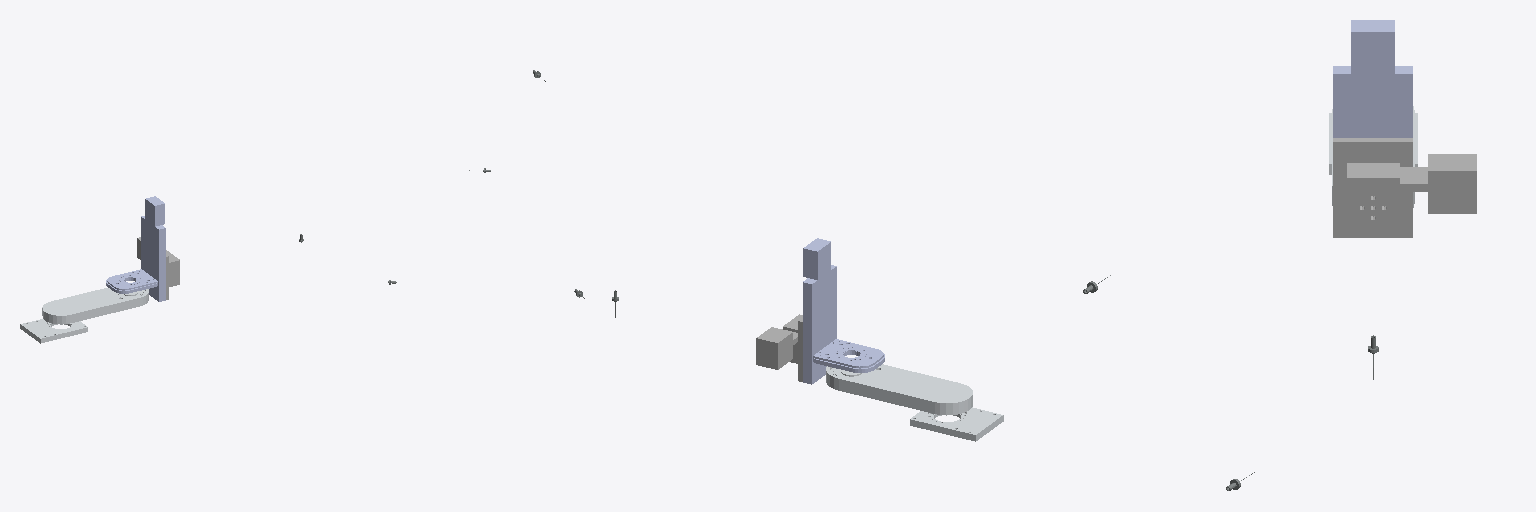
The robot description file, URDF, robot "eye_op_robotics":
<?xml version="1.0" encoding="utf-8"?>
<!-- This URDF was automatically created by SolidWorks to URDF Exporter! Originally created by [author] ([email redacted]) 
     Commit Version: 1.5.1-0-g916b5db  Build Version: 1.5.7152.31018
     For more information, please see http://wiki.ros.org/sw_urdf_exporter -->
<robot
  name="eye_op_robotics">
  <link
    name="base_link">
    <inertial>
      <origin
        xyz="-0.0238005358984902 7.38684680795521E-06 0.19192082135837"
        rpy="0 0 0" />
      <mass
        value="0.384019501922379" />
      <inertia
        ixx="0.00037648049249323"
        ixy="-1.86655934883143E-07"
        ixz="7.23682486620702E-07"
        iyy="0.000691074966331848"
        iyz="-2.24605516922338E-10"
        izz="0.00105713750177639" />
    </inertial>
    <visual>
      <origin
        xyz="0 0 0"
        rpy="0 0 0" />
      <geometry>
        <mesh
          filename="package://eye_op_robotics/meshes/base_link.STL" />
      </geometry>
      <material
        name="">
        <color
          rgba="0.894117647058823 0.913725490196078 0.929411764705882 1" />
      </material>
    </visual>
    <collision>
      <origin
        xyz="0 0 0"
        rpy="0 0 0" />
      <geometry>
        <mesh
          filename="package://eye_op_robotics/meshes/base_link.STL" />
      </geometry>
    </collision>
  </link>
  <link
    name="link_1">
    <inertial>
      <origin
        xyz="0.100797473863 9.75750207964365E-05 -0.0119251219533321"
        rpy="0 0 0" />
      <mass
        value="1.46370175335147" />
      <inertia
        ixx="0.00106648086469304"
        ixy="-8.16970648484332E-06"
        ixz="0.00014263499229849"
        iyy="0.008676502815725"
        iyz="8.8625269977646E-08"
        izz="0.00961281310495378" />
    </inertial>
    <visual>
      <origin
        xyz="0 0 0"
        rpy="0 0 0" />
      <geometry>
        <mesh
          filename="package://eye_op_robotics/meshes/link_1.STL" />
      </geometry>
      <material
        name="">
        <color
          rgba="0.894117647058823 0.913725490196078 0.929411764705882 1" />
      </material>
    </visual>
    <collision>
      <origin
        xyz="0 0 0"
        rpy="0 0 0" />
      <geometry>
        <mesh
          filename="package://eye_op_robotics/meshes/link_1.STL" />
      </geometry>
    </collision>
  </link>
  <joint
    name="joint_1"
    type="revolute">
    <origin
      xyz="0 0 0.2428"
      rpy="0 0 0" />
    <parent
      link="base_link" />
    <child
      link="link_1" />
    <axis
      xyz="0 0 1" />
    <limit
      lower="-0.5235987"
      upper="0.5235987"
      effort="0"
      velocity="0" />
  </joint>
  <link
    name="link_2">
    <inertial>
      <origin
        xyz="0.0434941937071998 6.63065378990191E-05 0.041333956225932"
        rpy="0 0 0" />
      <mass
        value="0.701134936853284" />
      <inertia
        ixx="0.00280293008059324"
        ixy="1.90190685009046E-06"
        ixz="-4.49171603235318E-05"
        iyy="0.00267008024448423"
        iyz="1.16083816001135E-07"
        izz="0.000739304049211524" />
    </inertial>
    <visual>
      <origin
        xyz="0 0 0"
        rpy="0 0 0" />
      <geometry>
        <mesh
          filename="package://eye_op_robotics/meshes/link_2.STL" />
      </geometry>
      <material
        name="">
        <color
          rgba="0.792156862745098 0.819607843137255 0.933333333333333 1" />
      </material>
    </visual>
    <collision>
      <origin
        xyz="0 0 0"
        rpy="0 0 0" />
      <geometry>
        <mesh
          filename="package://eye_op_robotics/meshes/link_2.STL" />
      </geometry>
    </collision>
  </link>
  <joint
    name="joint_2"
    type="revolute">
    <origin
      xyz="0.2 0 0.0303"
      rpy="0 0 0" />
    <parent
      link="link_1" />
    <child
      link="link_2" />
    <axis
      xyz="0 0 1" />
    <limit
      lower="-0.5235987"
      upper="0.5235987"
      effort="0"
      velocity="0" />
  </joint>
  <link
    name="link_3">
    <inertial>
      <origin
        xyz="-0.030022019225413 0.0142338341360966 0.0102395532586211"
        rpy="0 0 0" />
      <mass
        value="0.414852305243674" />
      <inertia
        ixx="0.000295687038913697"
        ixy="1.55261476772924E-05"
        ixz="0.000116580303769062"
        iyy="0.00098470595032623"
        iyz="-3.42372209267644E-06"
        izz="0.000782496128442804" />
    </inertial>
    <visual>
      <origin
        xyz="0 0 0"
        rpy="0 0 0" />
      <geometry>
        <mesh
          filename="package://eye_op_robotics/meshes/link_3.STL" />
      </geometry>
      <material
        name="">
        <color
          rgba="0.752941176470588 0.752941176470588 0.752941176470588 1" />
      </material>
    </visual>
    <collision>
      <origin
        xyz="0 0 0"
        rpy="0 0 0" />
      <geometry>
        <mesh
          filename="package://eye_op_robotics/meshes/link_3.STL" />
      </geometry>
    </collision>
  </link>
  <joint
    name="joint_3"
    type="prismatic">
    <origin
      xyz="0.0865 0 0"
      rpy="0 0 -1.5708" />
    <parent
      link="link_2" />
    <child
      link="link_3" />
    <axis
      xyz="0 0 1" />
    <limit
      lower="0"
      upper="0.08"
      effort="0"
      velocity="0" />
  </joint>
  <link
    name="link_4">
    <inertial>
      <origin
        xyz="-0.00301339541328138 7.36834133308051E-06 1.09665768146527E-05"
        rpy="0 0 0" />
      <mass
        value="0.00646337305599087" />
      <inertia
        ixx="8.7126276838155E-08"
        ixy="9.83550461976081E-11"
        ixz="1.46385478633916E-10"
        iyy="2.19382842685933E-07"
        iyz="2.35555780033874E-10"
        izz="2.19575161381821E-07" />
    </inertial>
    <visual>
      <origin
        xyz="0 0 0"
        rpy="0 0 0" />
      <geometry>
        <mesh
          filename="package://eye_op_robotics/meshes/link_4.STL" />
      </geometry>
      <material
        name="">
        <color
          rgba="0.529411764705882 0.549019607843137 0.549019607843137 1" />
      </material>
    </visual>
    <collision>
      <origin
        xyz="0 0 0"
        rpy="0 0 0" />
      <geometry>
        <mesh
          filename="package://eye_op_robotics/meshes/link_4.STL" />
      </geometry>
    </collision>
  </link>
  <joint
    name="joint_4"
    type="revolute">
    <origin
      xyz="0 0.406 0"
      rpy="2.1612 -1.5708 2.5455" />
    <parent
      link="link_3" />
    <child
      link="link_4" />
    <axis
      xyz="0 0 1" />
    <limit
      lower="-0.5235987"
      upper="0.5235987"
      effort="0"
      velocity="0" />
  </joint>
  <link
    name="link_5">
    <inertial>
      <origin
        xyz="-1.09665768669651E-05 -0.00301339541339907 -7.36834149289711E-06"
        rpy="0 0 0" />
      <mass
        value="0.00646337305599087" />
      <inertia
        ixx="2.19575161381821E-07"
        ixy="-1.463854786339E-10"
        ixz="2.35555780033873E-10"
        iyy="8.71262768381551E-08"
        iyz="-9.83550461974807E-11"
        izz="2.19382842685933E-07" />
    </inertial>
    <visual>
      <origin
        xyz="0 0 0"
        rpy="0 0 0" />
      <geometry>
        <mesh
          filename="package://eye_op_robotics/meshes/link_5.STL" />
      </geometry>
      <material
        name="">
        <color
          rgba="0.529411764705882 0.549019607843137 0.549019607843137 1" />
      </material>
    </visual>
    <collision>
      <origin
        xyz="0 0 0"
        rpy="0 0 0" />
      <geometry>
        <mesh
          filename="package://eye_op_robotics/meshes/link_5.STL" />
      </geometry>
    </collision>
  </link>
  <joint
    name="joint_5"
    type="revolute">
    <origin
      xyz="0 0 0"
      rpy="-0.034643 1.5708 -1.6028" />
    <parent
      link="link_4" />
    <child
      link="link_5" />
    <axis
      xyz="0 0 1" />
    <limit
      lower="-0.5235987"
      upper="0.5235987"
      effort="0"
      velocity="0" />
  </joint>
  <link
    name="link_6">
    <inertial>
      <origin
        xyz="-1.09665768413675E-05 -7.36834132702979E-06 -0.0400652264928039"
        rpy="0 0 0" />
      <mass
        value="0.00646337305599087" />
      <inertia
        ixx="2.19575161381821E-07"
        ixy="2.35555780033846E-10"
        ixz="1.46385478634155E-10"
        iyy="2.19382842685933E-07"
        iyz="9.83550461975598E-11"
        izz="8.71262768381551E-08" />
    </inertial>
    <visual>
      <origin
        xyz="0 0 0"
        rpy="0 0 0" />
      <geometry>
        <mesh
          filename="package://eye_op_robotics/meshes/link_6.STL" />
      </geometry>
      <material
        name="">
        <color
          rgba="0.529411764705882 0.549019607843137 0.549019607843137 1" />
      </material>
    </visual>
    <collision>
      <origin
        xyz="0 0 0"
        rpy="0 0 0" />
      <geometry>
        <mesh
          filename="package://eye_op_robotics/meshes/link_6.STL" />
      </geometry>
    </collision>
  </link>
  <joint
    name="joint_6"
    type="prismatic">
    <origin
      xyz="0 -0.043079 0"
      rpy="1.5708 0 0" />
    <parent
      link="link_5" />
    <child
      link="link_6" />
    <axis
      xyz="0 0 1" />
    <limit
      lower="-0.056"
      upper="0"
      effort="0"
      velocity="0" />
  </joint>
</robot>

--- Facts derived from the render (not from the file) ---
3 views of the same robot in one strip: view 1: azimuth 30°, elevation 25°; view 2: azimuth 150°, elevation 25°; view 3: azimuth 270°, elevation 25° (orthographic).
Model eye_op_robotics with 7 links and 6 joints (4 revolute, 2 prismatic), rooted at base_link, posed all joints at 0.
Visible links, largest first — view 1: link_2, link_1, base_link, link_3; view 2: link_2, link_1, link_3, base_link; view 3: link_3, link_2.
Boxes of the visible links, x1=… form: link_2: x1=106, y1=196, x2=165, y2=301; link_1: x1=42, y1=288, x2=148, y2=324; base_link: x1=20, y1=319, x2=87, y2=343; link_3: x1=137, y1=237, x2=179, y2=299; link_2: x1=803, y1=238, x2=884, y2=384; link_1: x1=826, y1=364, x2=972, y2=415; link_3: x1=756, y1=314, x2=802, y2=381; base_link: x1=910, y1=407, x2=1003, y2=441; link_3: x1=1333, y1=138, x2=1476, y2=237; link_2: x1=1333, y1=20, x2=1412, y2=137.
Size in the robot's own frame: 1.14 by 0.4446 by 0.342 metres.
7 mesh visuals loaded from 7 distinct referenced files (7 binary STL).